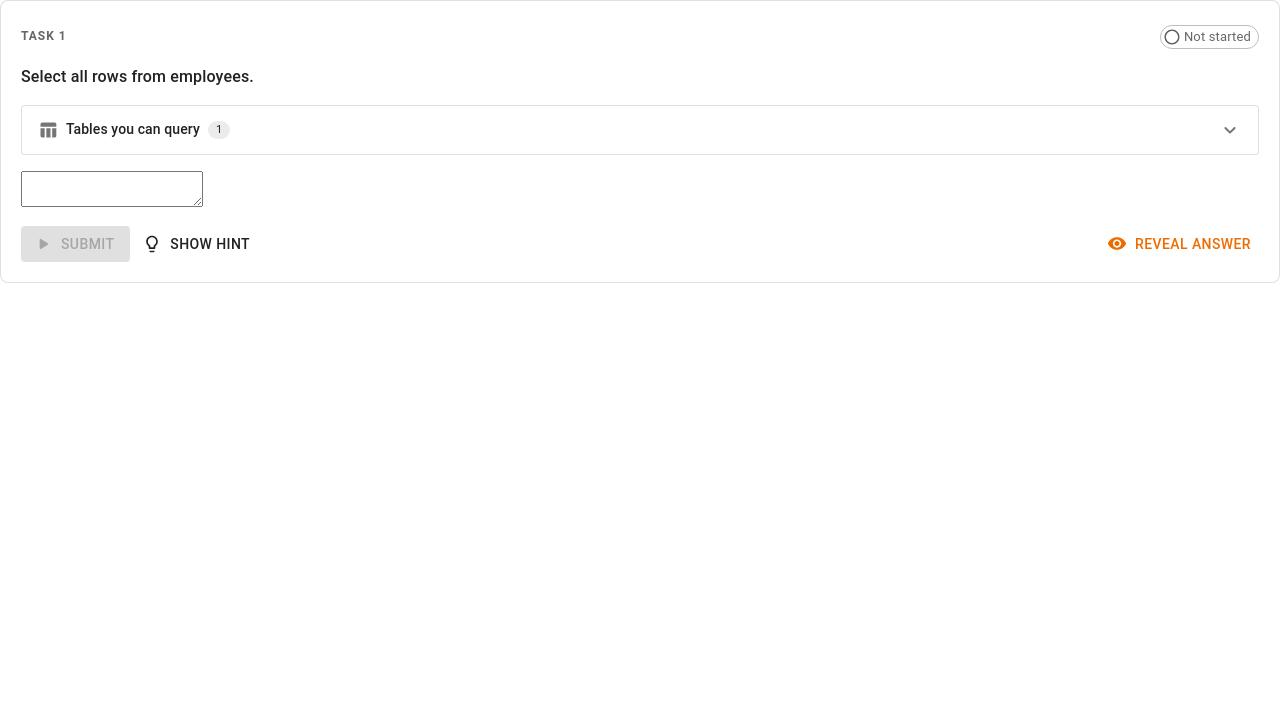
Test: TaskCard — reveal › does not reveal when the confirm dialog is cancelled
Click the button "Reveal answer". click: (1181, 244)
box: top-left (1103, 226), bottom-right (1259, 262)
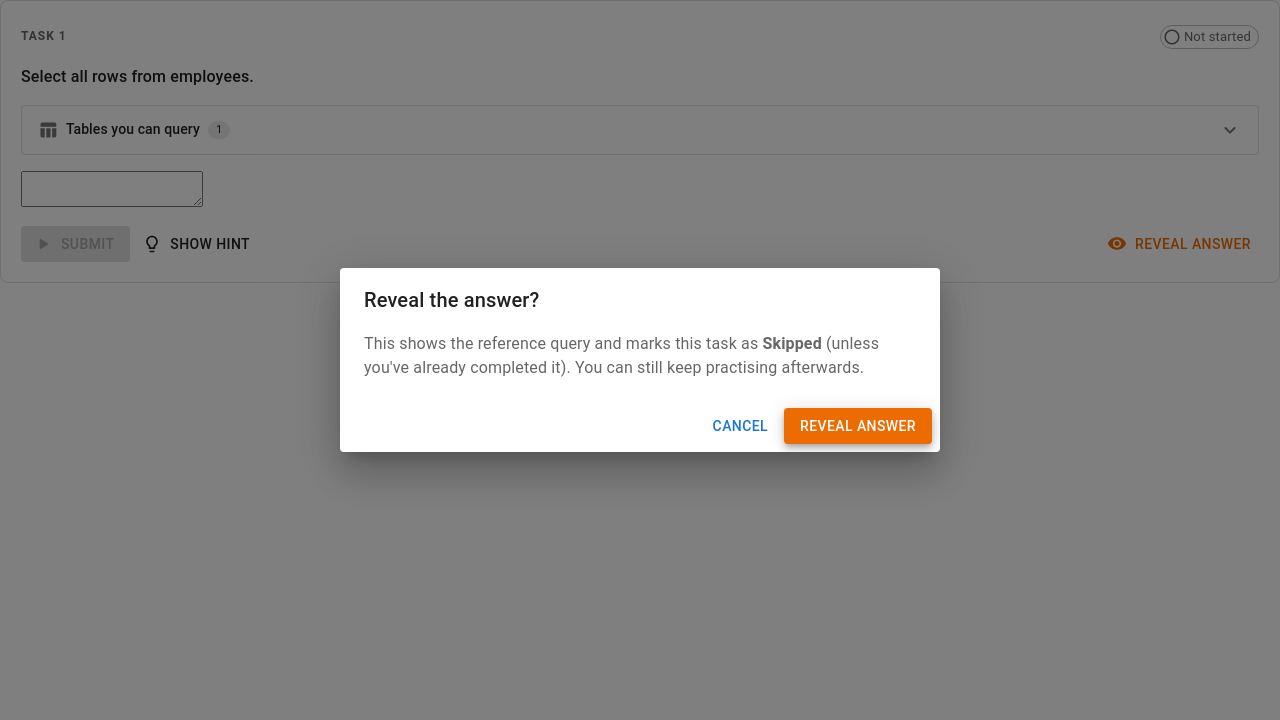
Click the button "Cancel". click: (740, 426)
box: top-left (705, 408), bottom-right (776, 444)
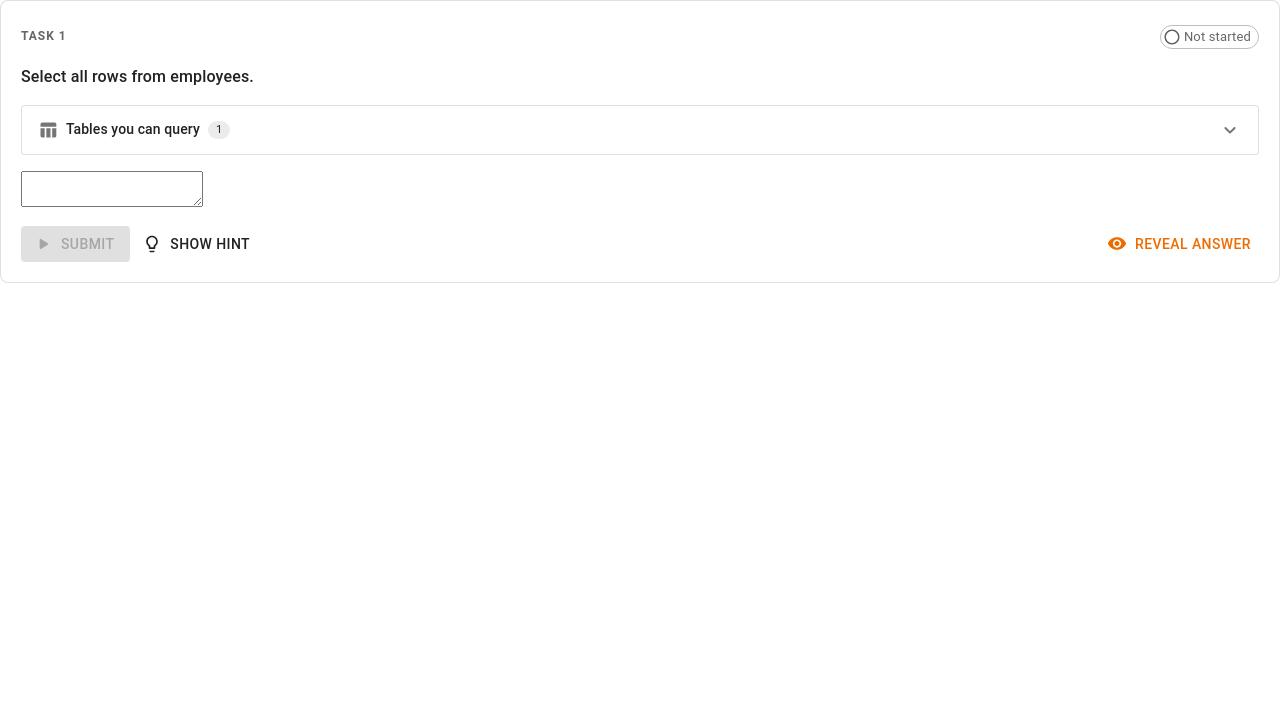
Expected: the dialog is gone
